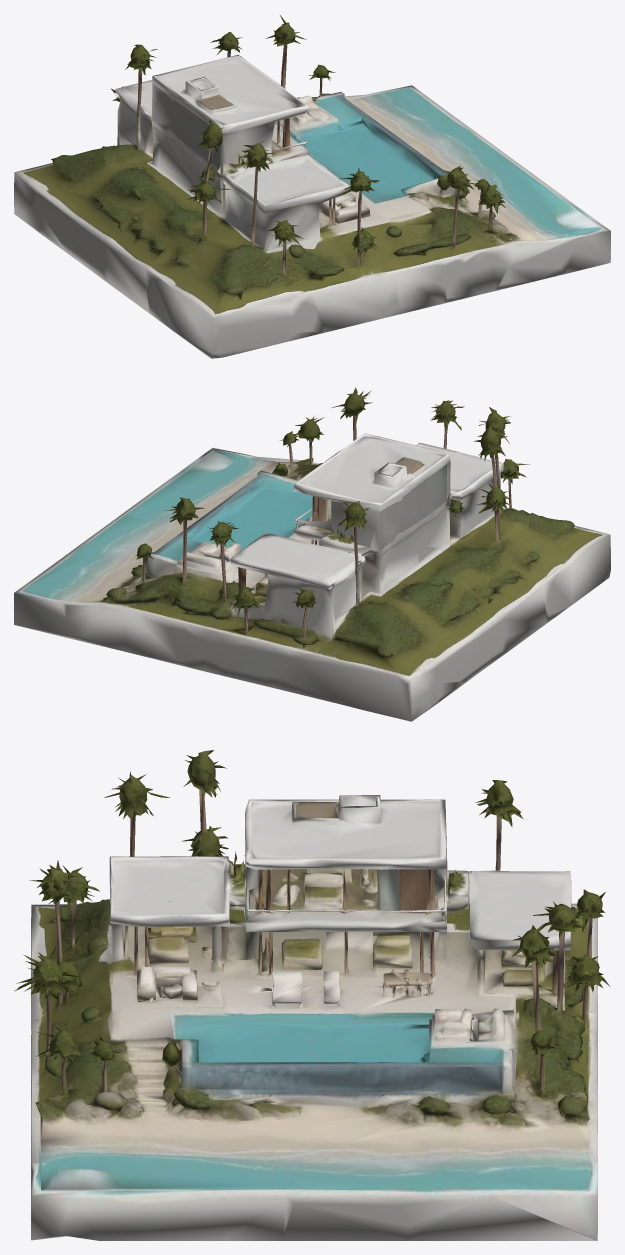
Rendered from home-villa-hf.glb.
The picture shows the model from 3 angles, top to bottom: view 1: azimuth 30°, elevation 25°; view 2: azimuth 150°, elevation 25°; view 3: azimuth 270°, elevation 25°; orthographic projection. The views are drawn at different scales.
Parts seen in each view (by area): view 1: tripo_node_b2f1954f-6ea0-4b50-a208-148a9ed0d596; view 2: tripo_node_b2f1954f-6ea0-4b50-a208-148a9ed0d596; view 3: tripo_node_b2f1954f-6ea0-4b50-a208-148a9ed0d596.
Boxes of the visible parts, <box> form: tripo_node_b2f1954f-6ea0-4b50-a208-148a9ed0d596: <box>14,15,610,358</box>; tripo_node_b2f1954f-6ea0-4b50-a208-148a9ed0d596: <box>14,387,610,721</box>; tripo_node_b2f1954f-6ea0-4b50-a208-148a9ed0d596: <box>14,750,610,1240</box>.
Size of the model in its own units: 0.9999 by 0.4303 by 0.9103.
Materials: 1 (1 with a texture image).
